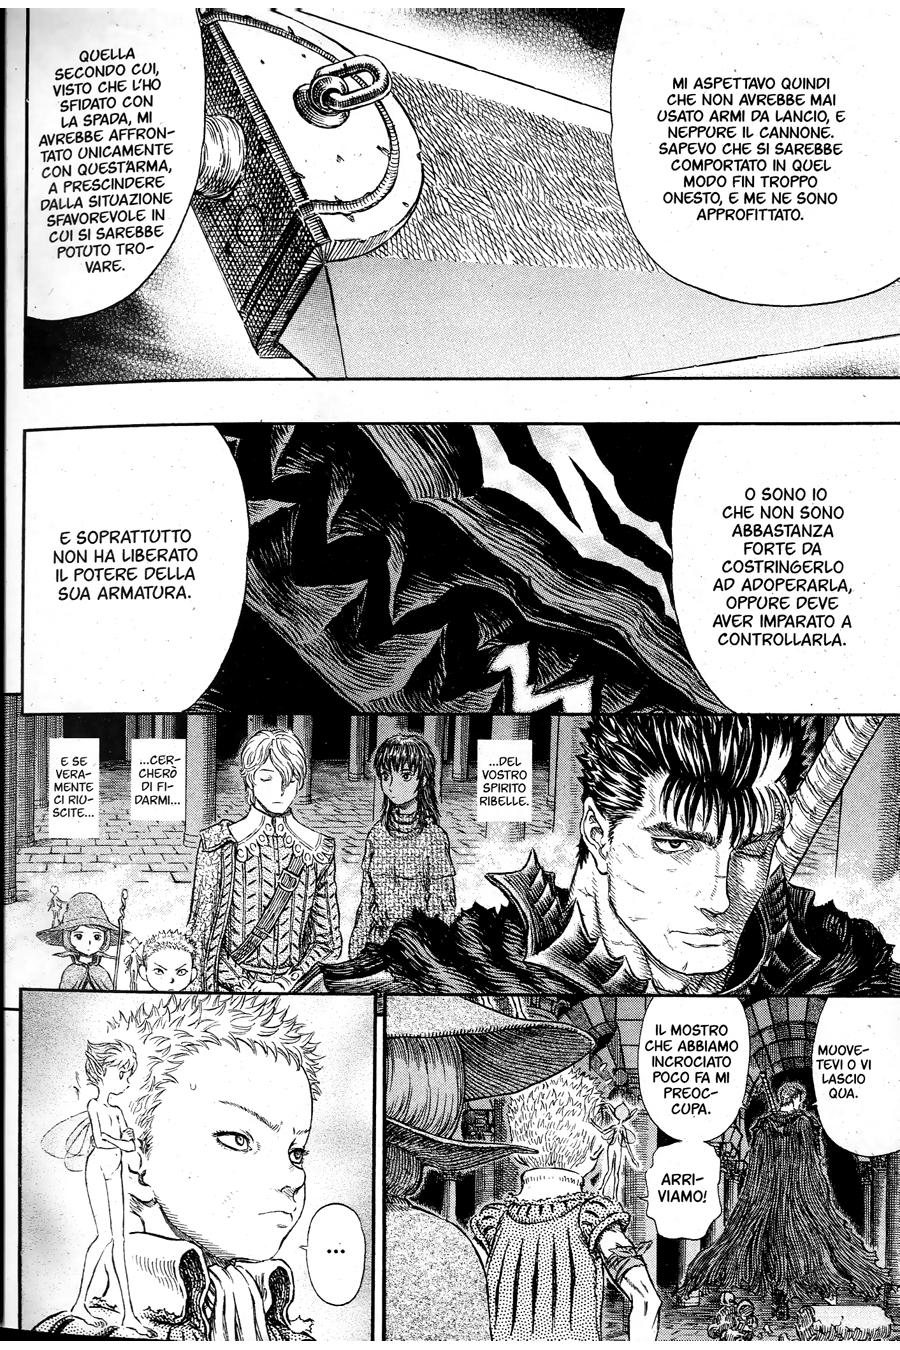Baloon: (610, 9, 900, 309), (675, 421, 900, 718), (28, 426, 251, 715), (20, 11, 202, 321), (640, 999, 749, 1138), (812, 989, 900, 1155), (651, 1144, 726, 1240), (44, 738, 102, 844), (306, 1203, 363, 1305), (126, 736, 183, 821), (479, 740, 534, 823)
Vignetta: (24, 7, 900, 383), (4, 713, 900, 1002), (22, 423, 900, 714), (387, 997, 899, 1338), (20, 985, 375, 1338)
